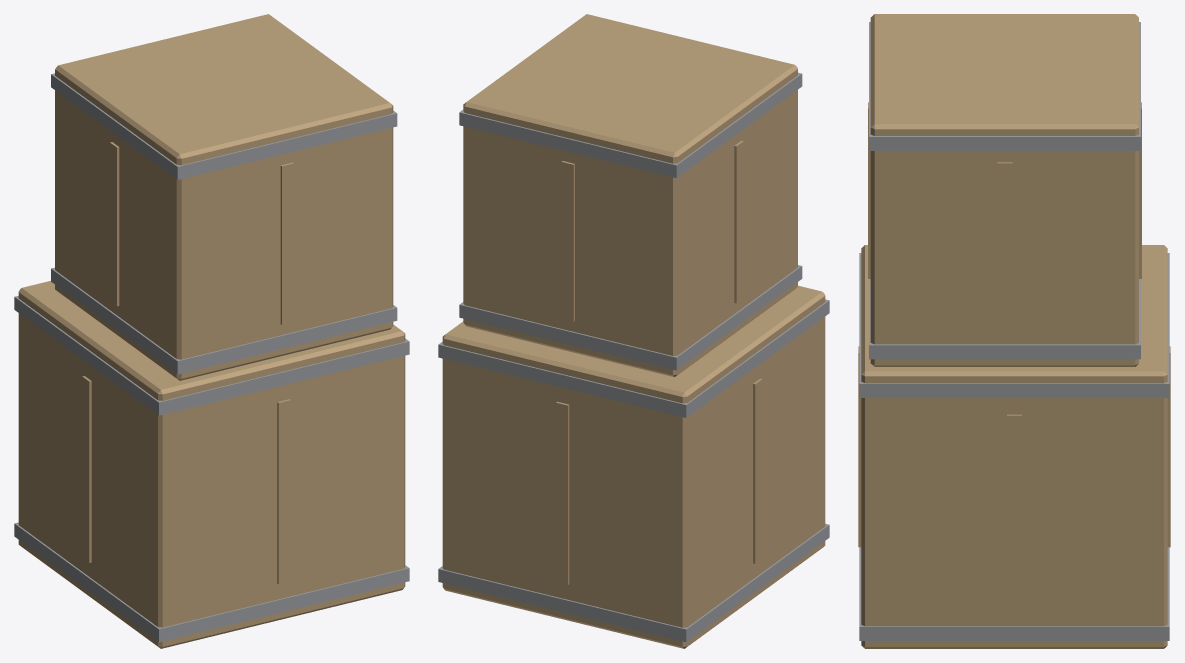
The model's file is crate_tall.glb.
3 renders of one model, left to right at view 1: azimuth 30°, elevation 25°; view 2: azimuth 150°, elevation 25°; view 3: azimuth 270°, elevation 25°, orthographic. The views are drawn at different scales.
Visible parts, largest first — view 1: crate_tall; view 2: crate_tall; view 3: crate_tall.
Boxes of the visible parts, x1=… form: crate_tall: x1=14, y1=14, x2=409, y2=648; crate_tall: x1=438, y1=14, x2=829, y2=648; crate_tall: x1=858, y1=14, x2=1170, y2=648.
Size of what is drawn, in the model's own units: 1.63 by 3 by 1.63.
